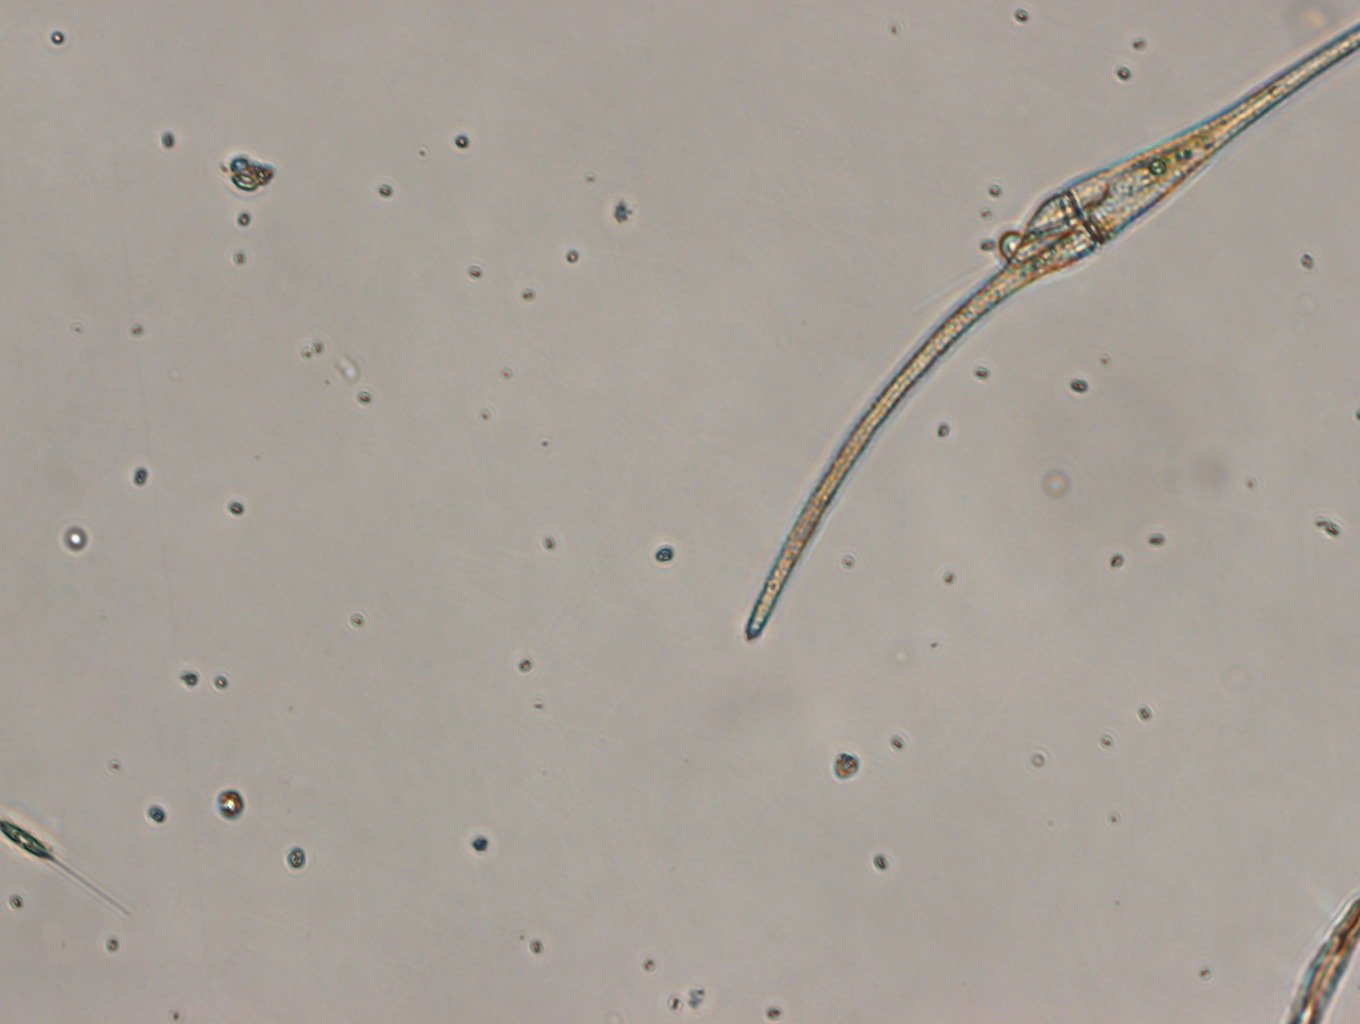ceratium fusus: (743, 25, 1360, 642)
